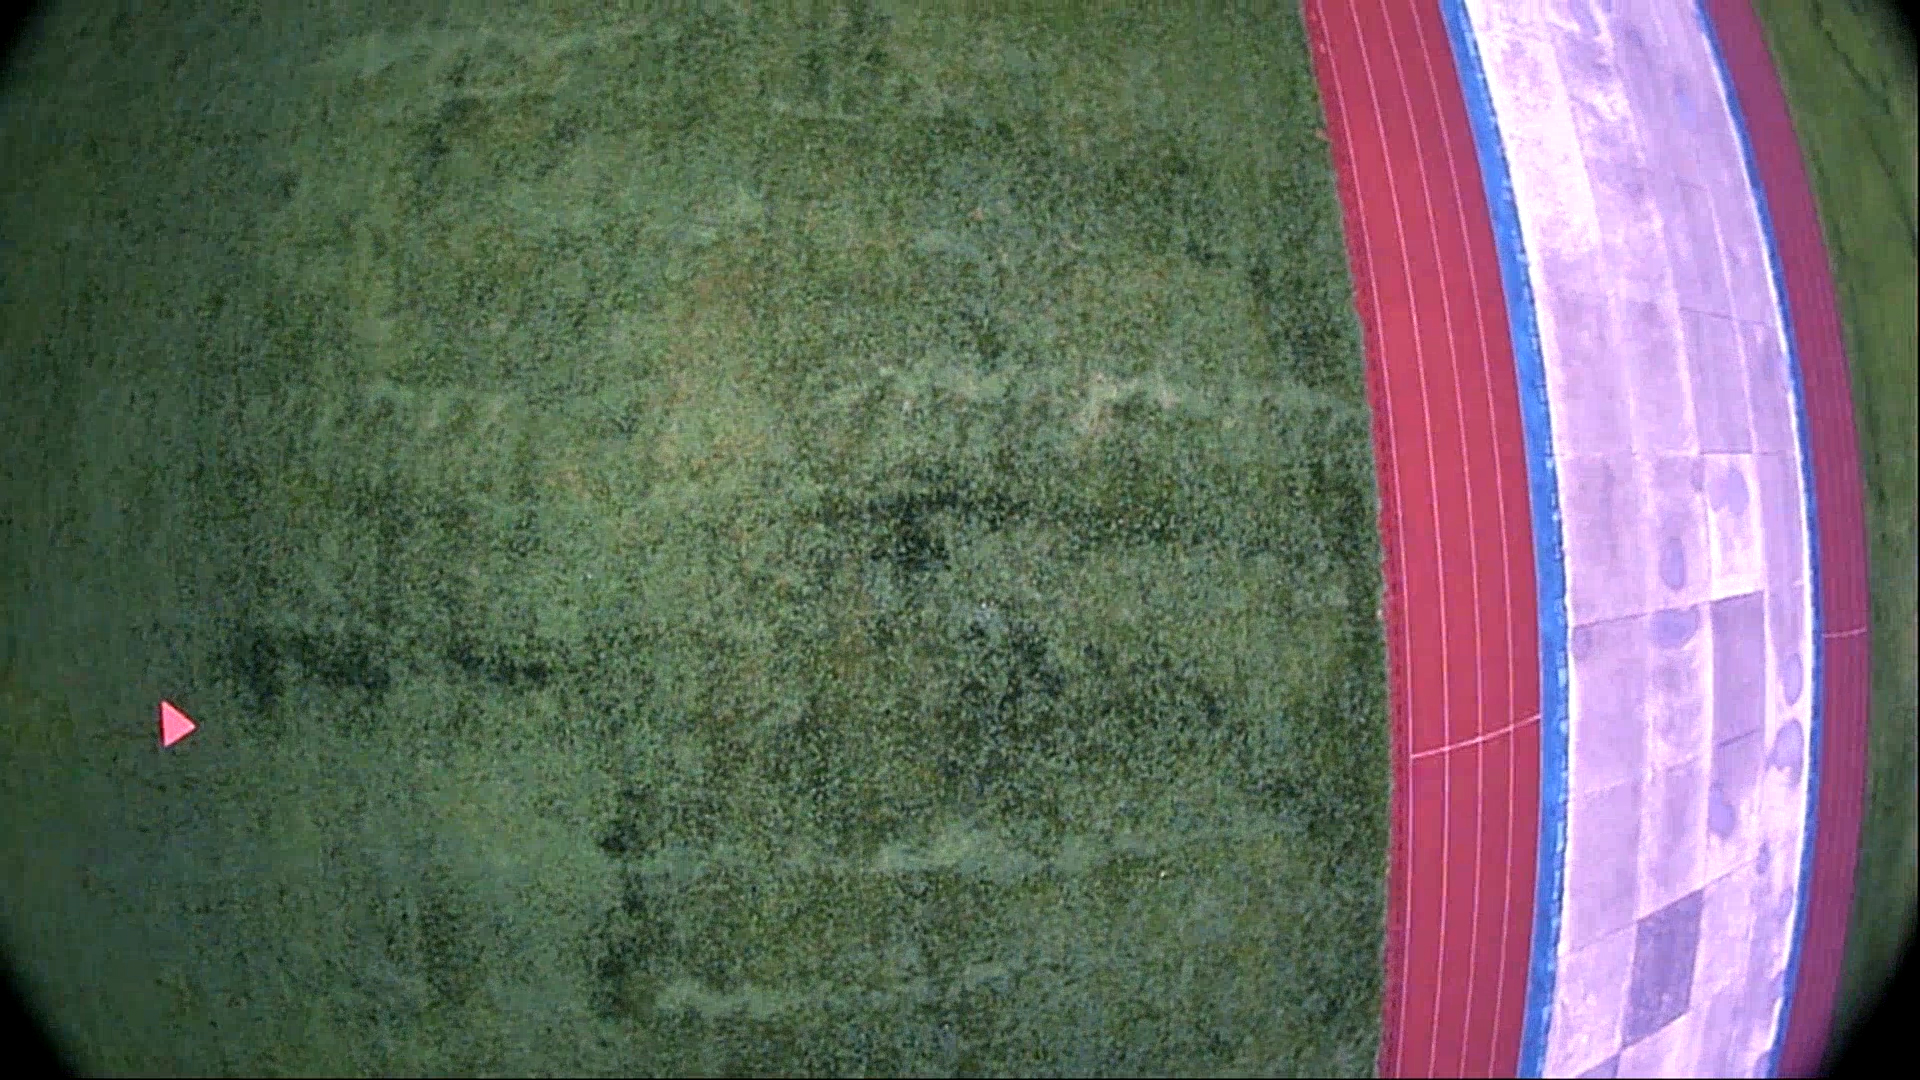triangle: (154, 694, 203, 752)
